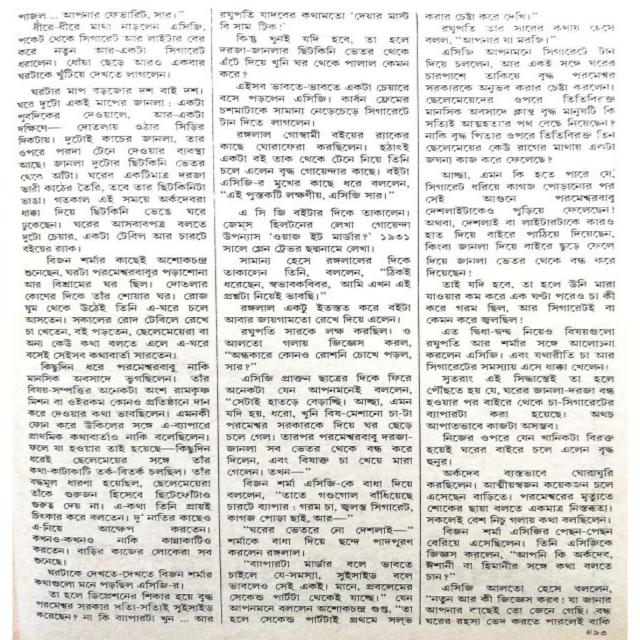page number: (577, 627, 612, 639)
paragraph: (23, 361, 214, 566), (13, 84, 207, 254), (423, 45, 617, 166), (420, 169, 620, 278), (219, 373, 415, 477), (23, 255, 213, 359), (218, 129, 411, 200), (222, 558, 415, 625), (16, 20, 207, 81), (423, 374, 618, 431), (427, 466, 615, 524), (426, 525, 613, 579), (422, 279, 625, 326), (217, 254, 414, 301), (222, 206, 414, 254), (219, 80, 415, 127), (214, 32, 414, 78), (221, 477, 417, 523), (423, 327, 621, 372), (423, 582, 616, 627), (224, 327, 415, 371), (424, 431, 619, 467), (29, 589, 218, 623), (226, 524, 418, 557), (220, 301, 415, 325), (424, 22, 619, 45), (28, 566, 215, 589), (213, 9, 412, 30), (11, 9, 191, 20), (423, 11, 543, 22)
